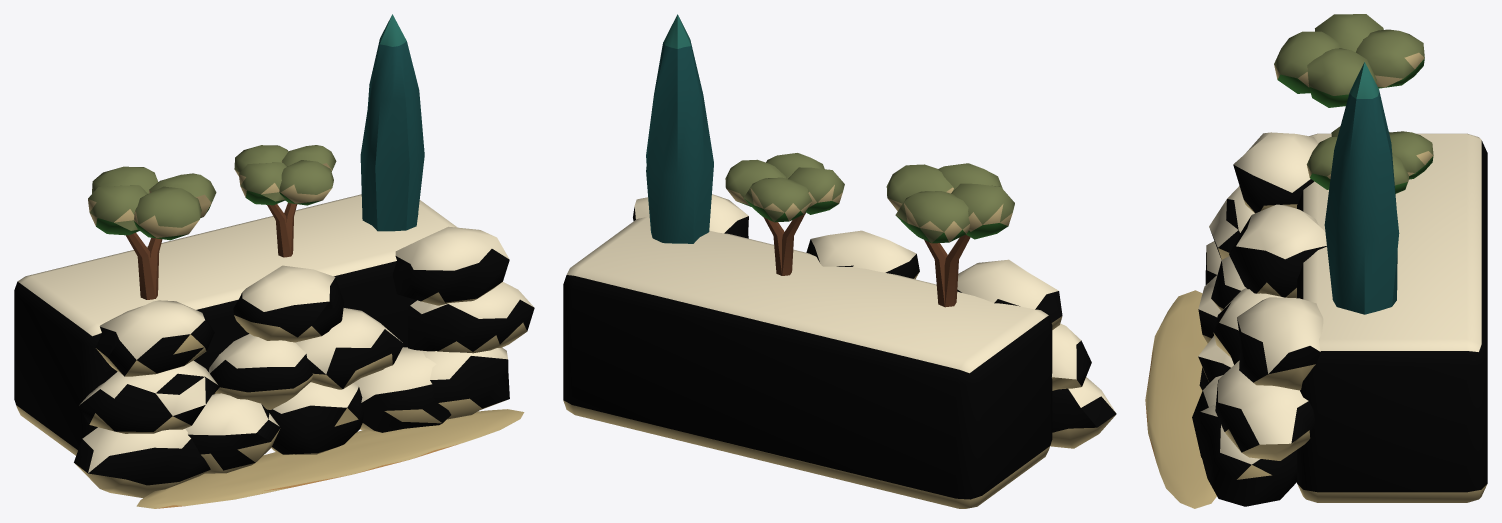
Rendered from GreekCliffC.fbx.
3 renders of one model, left to right at view 1: azimuth 30°, elevation 25°; view 2: azimuth 150°, elevation 25°; view 3: azimuth 270°, elevation 25°, orthographic. The views are drawn at different scales.
Parts seen in each view (by area): view 1: GreekCliffC; view 2: GreekCliffC; view 3: GreekCliffC.
Boxes of the visible parts, box(x1,y1,x2,y2) form: GreekCliffC: box(14, 14, 534, 508); GreekCliffC: box(563, 14, 1116, 508); GreekCliffC: box(1145, 14, 1487, 508).
Bounding box in the file's own units: 8.82 × 6.84 × 4.94.
1 material, 1 textured.
